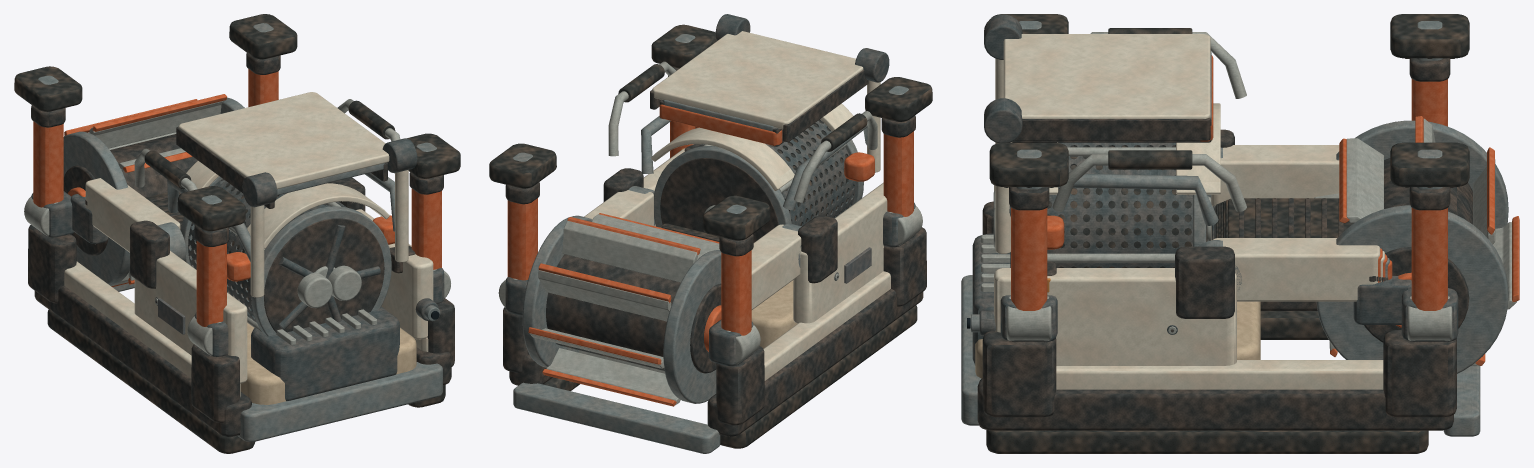
The model's file is regolith_intake_folded.glb.
3 renders of one model, left to right at view 1: azimuth 30°, elevation 25°; view 2: azimuth 150°, elevation 25°; view 3: azimuth 270°, elevation 25°, orthographic. The views are drawn at different scales.
Visible parts, largest first — view 1: RegolithIntake_hardware_rover_white, RegolithIntake_hardware_graphite, Discharge_slide_tray_rover_white, RegolithIntake_hardware_dark_alloy, RegolithIntake_hardware_alloy, Screen_drum_recess_graphite.001, Rubber_foot_rail_black_rubber, Scoop_rim_cheek_alloy, Scoop_boom_section_rover_white, SieveDrum_hardware_dark_alloy, Screen_drum_end_ring_alloy.001, RegolithIntake_hardware_satin_steel (+29 smaller); view 2: RegolithIntake_hardware_graphite, RegolithIntake_hardware_rover_white, ScoopWheel_hardware_satin_steel, Discharge_slide_tray_rover_white, ScoopWheel_hardware_graphite, RegolithIntake_hardware_alloy, Screen_drum_recess_graphite, Scoop_rim_cheek_alloy, ScoopWheel_hardware_orange, SieveDrum_hardware_dark_alloy, Rubber_foot_rail_black_rubber, Scoop_rim_cheek_alloy.001 (+29 smaller); view 3: RegolithIntake_hardware_graphite, RegolithIntake_hardware_rover_white, Discharge_slide_tray_rover_white, Scoop_rim_cheek_alloy.001, Rubber_foot_rail_black_rubber.001, SieveDrum_hardware_dark_alloy, Scoop_boom_section_rover_white.001, RegolithIntake_hardware_alloy, Scoop_boom_section_rover_white, ScoopWheel_hardware_satin_steel, Discharge_flange_graphite.001, Outrigger_outer_beam_orange.003 (+30 smaller).
Part boxes in pixels (x1,y1,x2,y2): RegolithIntake_hardware_rover_white: (64,161,433,396); RegolithIntake_hardware_graphite: (28,177,454,436); Discharge_slide_tray_rover_white: (178,92,389,188); RegolithIntake_hardware_dark_alloy: (31,191,444,401); RegolithIntake_hardware_alloy: (112,173,442,441); Screen_drum_recess_graphite.001: (264,218,384,332); Rubber_foot_rail_black_rubber: (47,309,254,453); Scoop_rim_cheek_alloy: (63,131,129,285); Scoop_boom_section_rover_white: (85,178,180,252); SieveDrum_hardware_dark_alloy: (188,178,380,329); Screen_drum_end_ring_alloy.001: (251,206,391,336); RegolithIntake_hardware_satin_steel: (155,265,377,344); RegolithIntake_hardware_graphite: (503,144,926,436); RegolithIntake_hardware_rover_white: (643,80,890,380); ScoopWheel_hardware_satin_steel: (529,214,719,405); Discharge_slide_tray_rover_white: (652,31,863,129); ScoopWheel_hardware_graphite: (546,254,721,373); RegolithIntake_hardware_alloy: (513,116,867,453); Screen_drum_recess_graphite: (660,158,778,242); Scoop_rim_cheek_alloy: (663,250,721,403); ScoopWheel_hardware_orange: (528,213,721,406); SieveDrum_hardware_dark_alloy: (698,119,855,226); Rubber_foot_rail_black_rubber: (720,305,917,448); Scoop_rim_cheek_alloy.001: (522,215,592,367); RegolithIntake_hardware_graphite: (977,129,1456,430); RegolithIntake_hardware_rover_white: (994,58,1383,389); Discharge_slide_tray_rover_white: (1003,34,1210,118); Scoop_rim_cheek_alloy.001: (1316,205,1508,373); Rubber_foot_rail_black_rubber.001: (986,430,1428,453); SieveDrum_hardware_dark_alloy: (1010,142,1192,267); Scoop_boom_section_rover_white.001: (1212,238,1380,301); RegolithIntake_hardware_alloy: (961,173,1480,436); Scoop_boom_section_rover_white: (1211,145,1339,206); ScoopWheel_hardware_satin_steel: (1314,118,1516,365); Discharge_flange_graphite.001: (1014,117,1210,140); Outrigger_outer_beam_orange.003: (1011,208,1047,310).
Bounding box in the file's own units: 0.608 × 0.5967 × 0.9242.
Materials: 11 (9 with a texture image).
